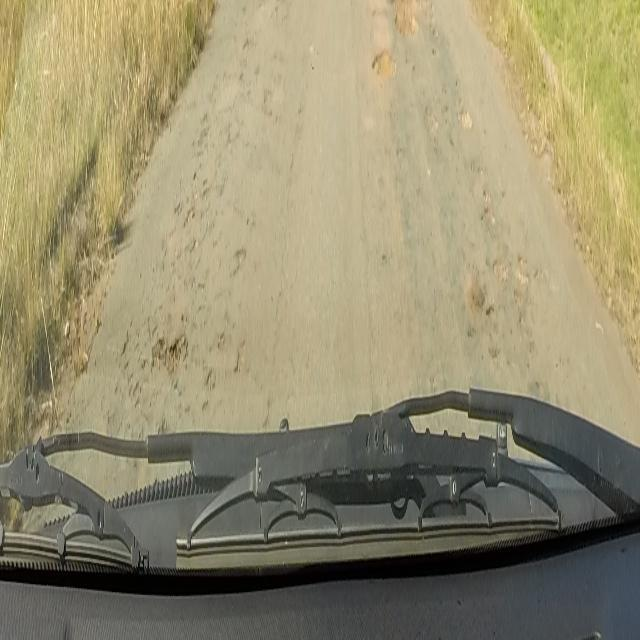pothole: (150, 327, 188, 377), (388, 0, 424, 37), (370, 42, 398, 82)
